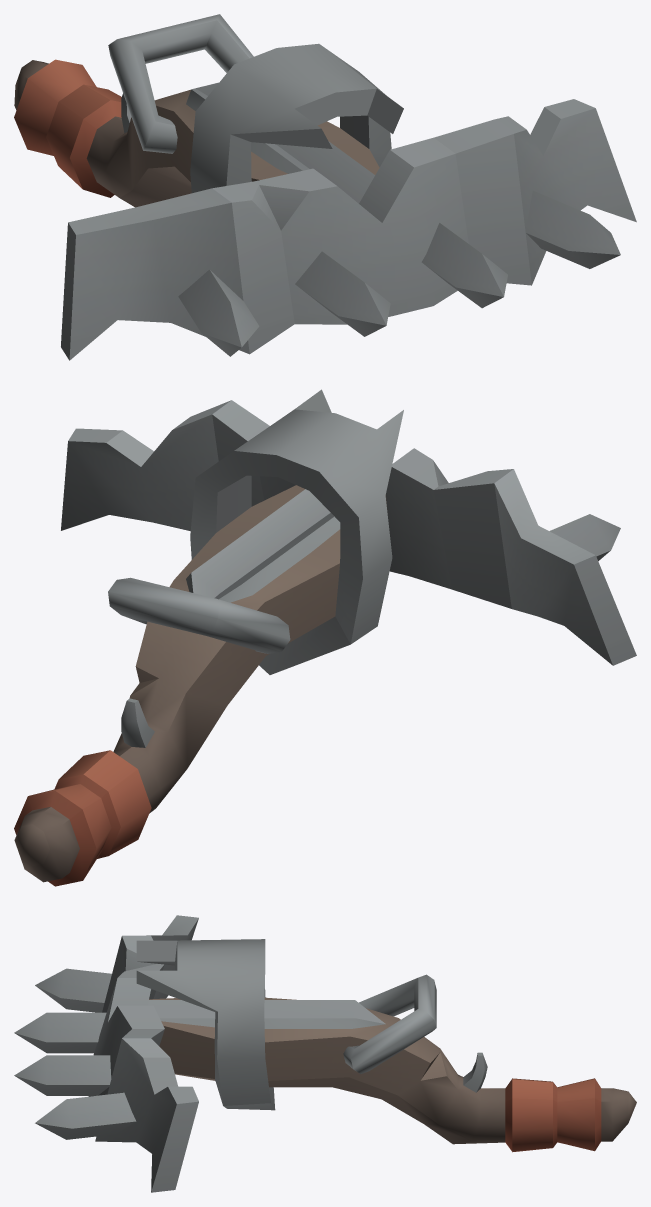
File: Skeleton_Crossbow.glb
The picture shows the model from 3 angles, top to bottom: view 1: azimuth 30°, elevation 25°; view 2: azimuth 150°, elevation 25°; view 3: azimuth 270°, elevation 25°; orthographic projection. The views are drawn at different scales.
Visible parts, largest first — view 1: Skeleton_Crossbow; view 2: Skeleton_Crossbow; view 3: Skeleton_Crossbow.
Boxes of the visible parts, x1=… form: Skeleton_Crossbow: x1=14, y1=14, x2=636, y2=360; Skeleton_Crossbow: x1=14, y1=389, x2=636, y2=886; Skeleton_Crossbow: x1=14, y1=915, x2=636, y2=1192.
Bounding box in the file's own units: 1.11 × 0.5082 × 1.42.
Materials: 1 (1 with a texture image).
